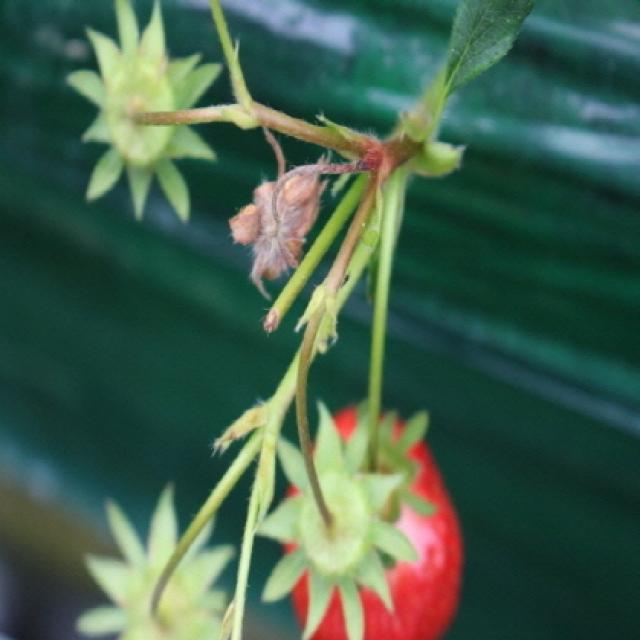Gray Mold: (228, 127, 363, 302)
